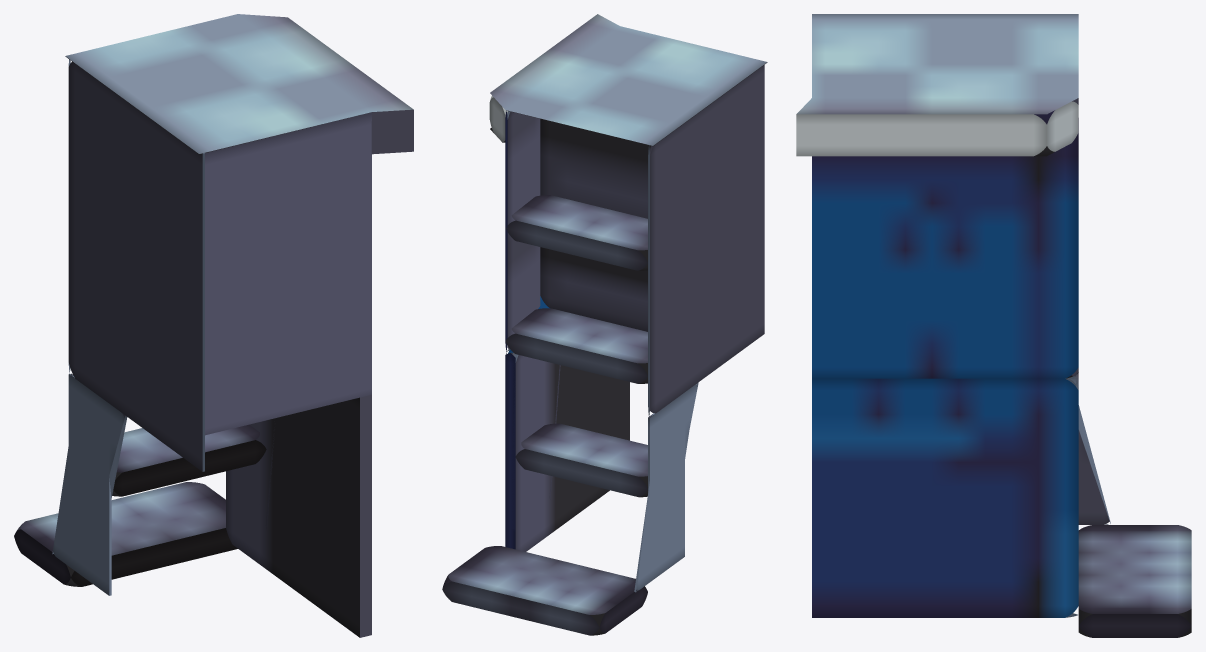
File: df5_cowcatcher_ladder.obj
The picture shows the model from 3 angles, left to right: view 1: azimuth 30°, elevation 25°; view 2: azimuth 150°, elevation 25°; view 3: azimuth 270°, elevation 25°; orthographic projection. The views are drawn at different scales.
Visible parts, largest first — view 1: 排障器_selection_selection_selection_selection_selection_selection_; view 2: 排障器_selection_selection_selection_selection_selection_selection_; view 3: 排障器_selection_selection_selection_selection_selection_selection_.
Boxes of the visible parts, x1,y1,x2,y2 form: 排障器_selection_selection_selection_selection_selection_selection_: (14,14,413,637); 排障器_selection_selection_selection_selection_selection_selection_: (442,14,767,635); 排障器_selection_selection_selection_selection_selection_selection_: (796,14,1191,637).
Bounding box in the file's own units: 0.5625 × 1.39 × 0.9371.
